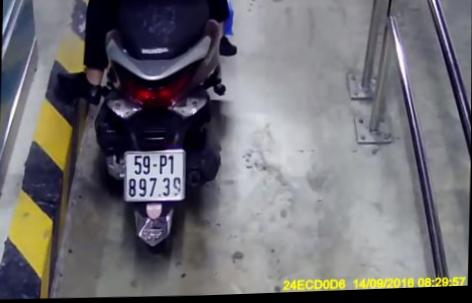LP: (121, 148, 189, 205)
